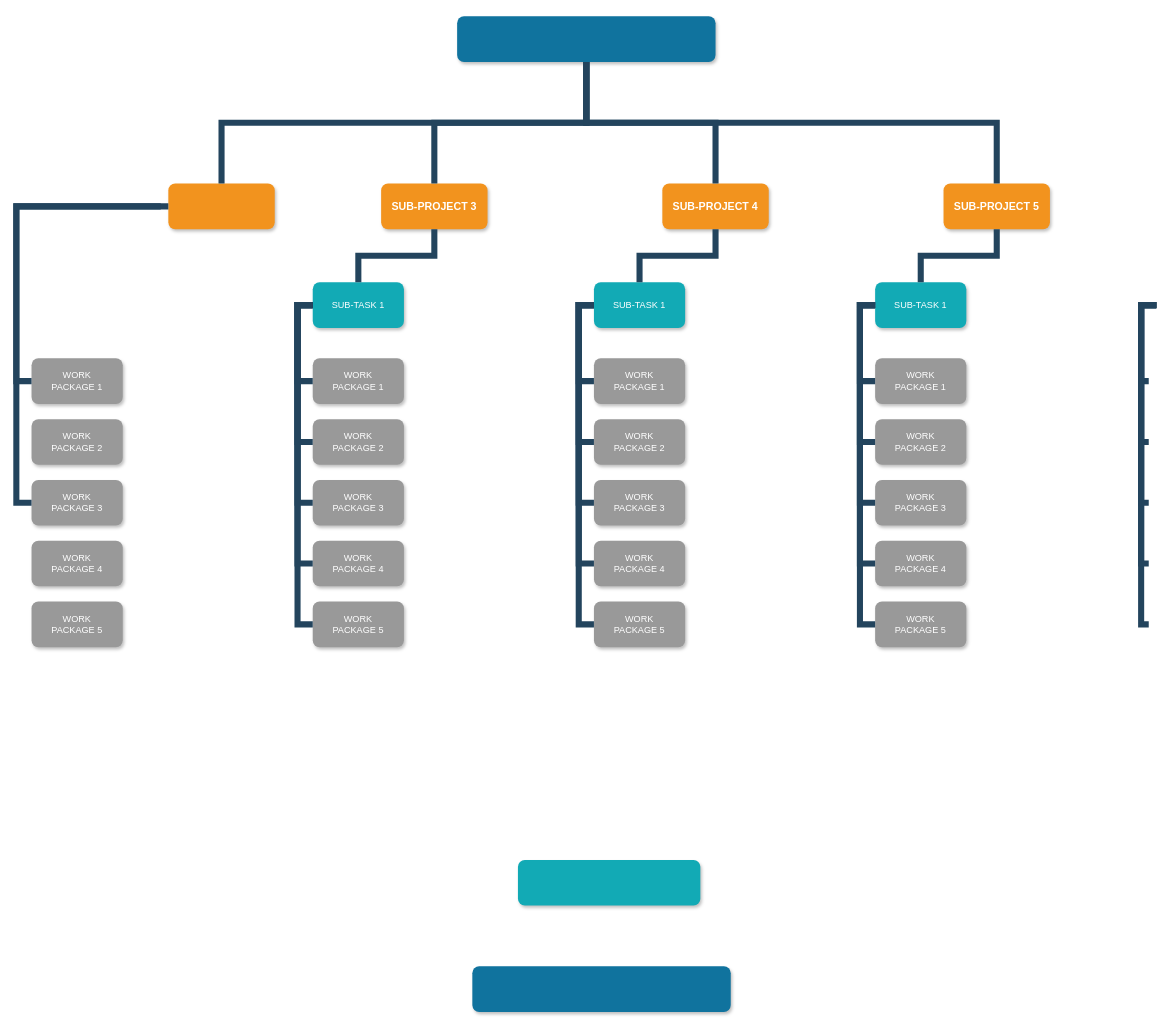
Image size: 1173x1030. Some labels were removed from this diagram. The shapes that lost their labels are listed below. From the top down, each one's centre as x and y in pixels, then its label:
[587,40]: Entry
[222,207]: Loading Assets
[610,883]: HtmlWebppackPlugin
[602,990]: ouput
